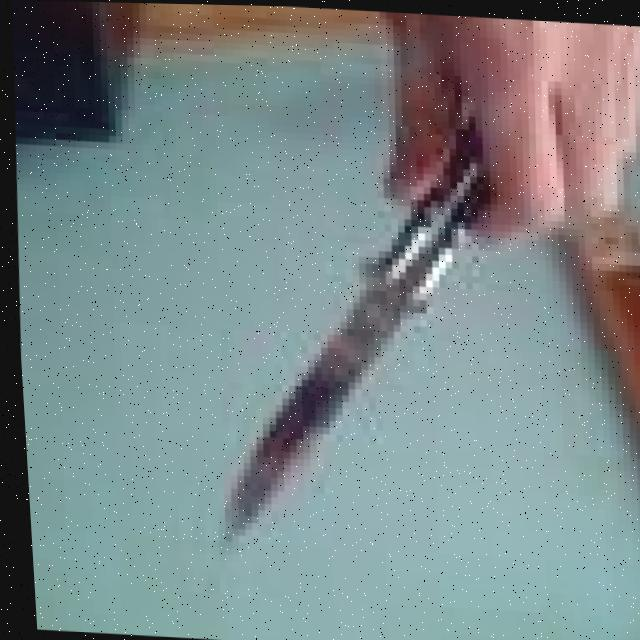knife: (192, 94, 510, 560)
